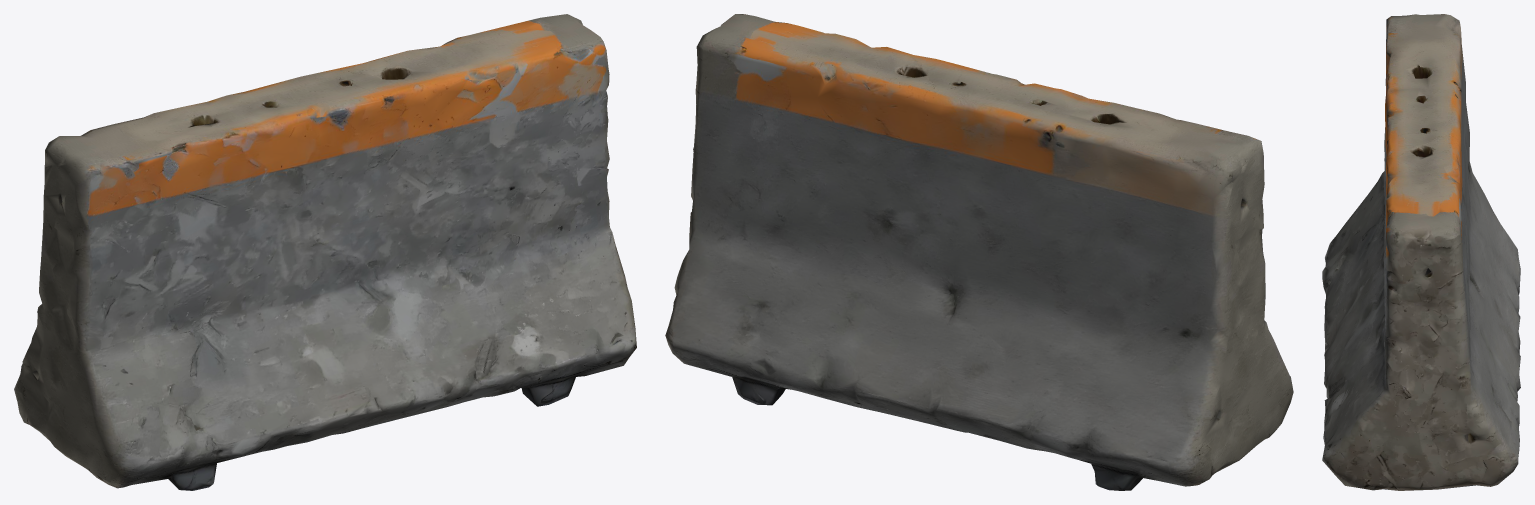
Rendered from barrier_concrete.raw.glb.
3 renders of one model, left to right at view 1: azimuth 30°, elevation 25°; view 2: azimuth 150°, elevation 25°; view 3: azimuth 270°, elevation 25°, orthographic. The views are drawn at different scales.
Visible parts, largest first — view 1: tripo_node_861f3e97-8852-4d09-a6f1-5a4ce27d8f27; view 2: tripo_node_861f3e97-8852-4d09-a6f1-5a4ce27d8f27; view 3: tripo_node_861f3e97-8852-4d09-a6f1-5a4ce27d8f27.
Boxes of the visible parts, box(x1,y1,x2,y2) form: tripo_node_861f3e97-8852-4d09-a6f1-5a4ce27d8f27: box(14, 14, 636, 490); tripo_node_861f3e97-8852-4d09-a6f1-5a4ce27d8f27: box(665, 14, 1293, 490); tripo_node_861f3e97-8852-4d09-a6f1-5a4ce27d8f27: box(1322, 14, 1520, 490).
Bounding box in the file's own units: 1 × 0.5757 × 0.3777.
1 material, 1 textured.
